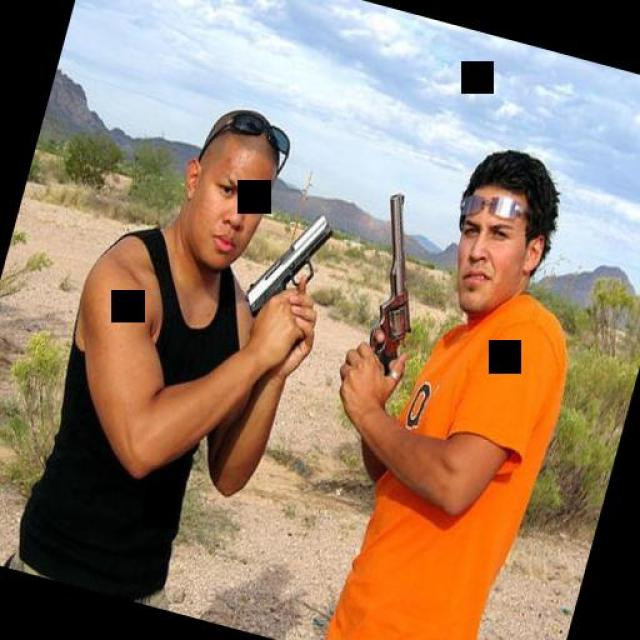gun: (342, 188, 447, 382), (238, 196, 338, 330)
